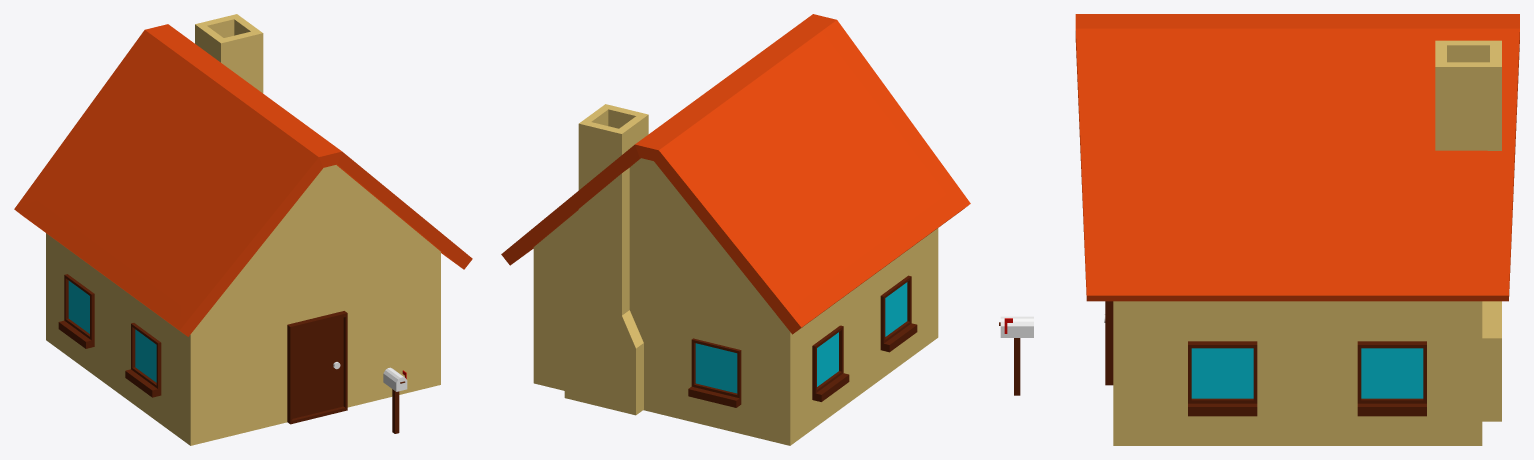
File: house.glb
3 renders of one model, left to right at view 1: azimuth 30°, elevation 25°; view 2: azimuth 150°, elevation 25°; view 3: azimuth 270°, elevation 25°, orthographic. The views are drawn at different scales.
Parts seen in each view (by area): view 1: Cube_0, Cube.002_4, Cube.001_3, Cube.013_12, Cube.012_13; view 2: Cube_0, Cube.001_3, Cube.005_14, Cube.013_12, Cube.012_13; view 3: Cube_0, Cube.001_3, Cube.003_5, Cube.008_11, Cube.002_4, Cube.009_7.
Part boxes in pixels (x1=…): Cube_0: x1=14, y1=24, x2=472, y2=445; Cube.002_4: x1=287, y1=311, x2=347, y2=424; Cube.001_3: x1=195, y1=14, x2=263, y2=93; Cube.013_12: x1=58, y1=274, x2=94, y2=348; Cube.012_13: x1=125, y1=323, x2=161, y2=397; Cube_0: x1=501, y1=14, x2=970, y2=445; Cube.001_3: x1=564, y1=104, x2=648, y2=415; Cube.005_14: x1=688, y1=338, x2=741, y2=407; Cube.013_12: x1=812, y1=325, x2=849, y2=401; Cube.012_13: x1=880, y1=275, x2=917, y2=352; Cube_0: x1=1075, y1=14, x2=1519, y2=445; Cube.001_3: x1=1435, y1=40, x2=1501, y2=421; Cube.003_5: x1=1188, y1=341, x2=1257, y2=416; Cube.008_11: x1=1357, y1=341, x2=1426, y2=416; Cube.002_4: x1=1105, y1=301, x2=1113, y2=385; Cube.009_7: x1=1000, y1=316, x2=1033, y2=337.
Bounding box in the file's own units: 2.34 × 2.07 × 2.82.
